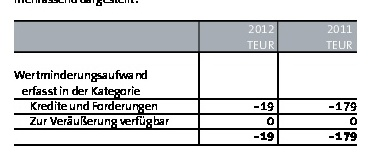table: (0, 0, 374, 159)
